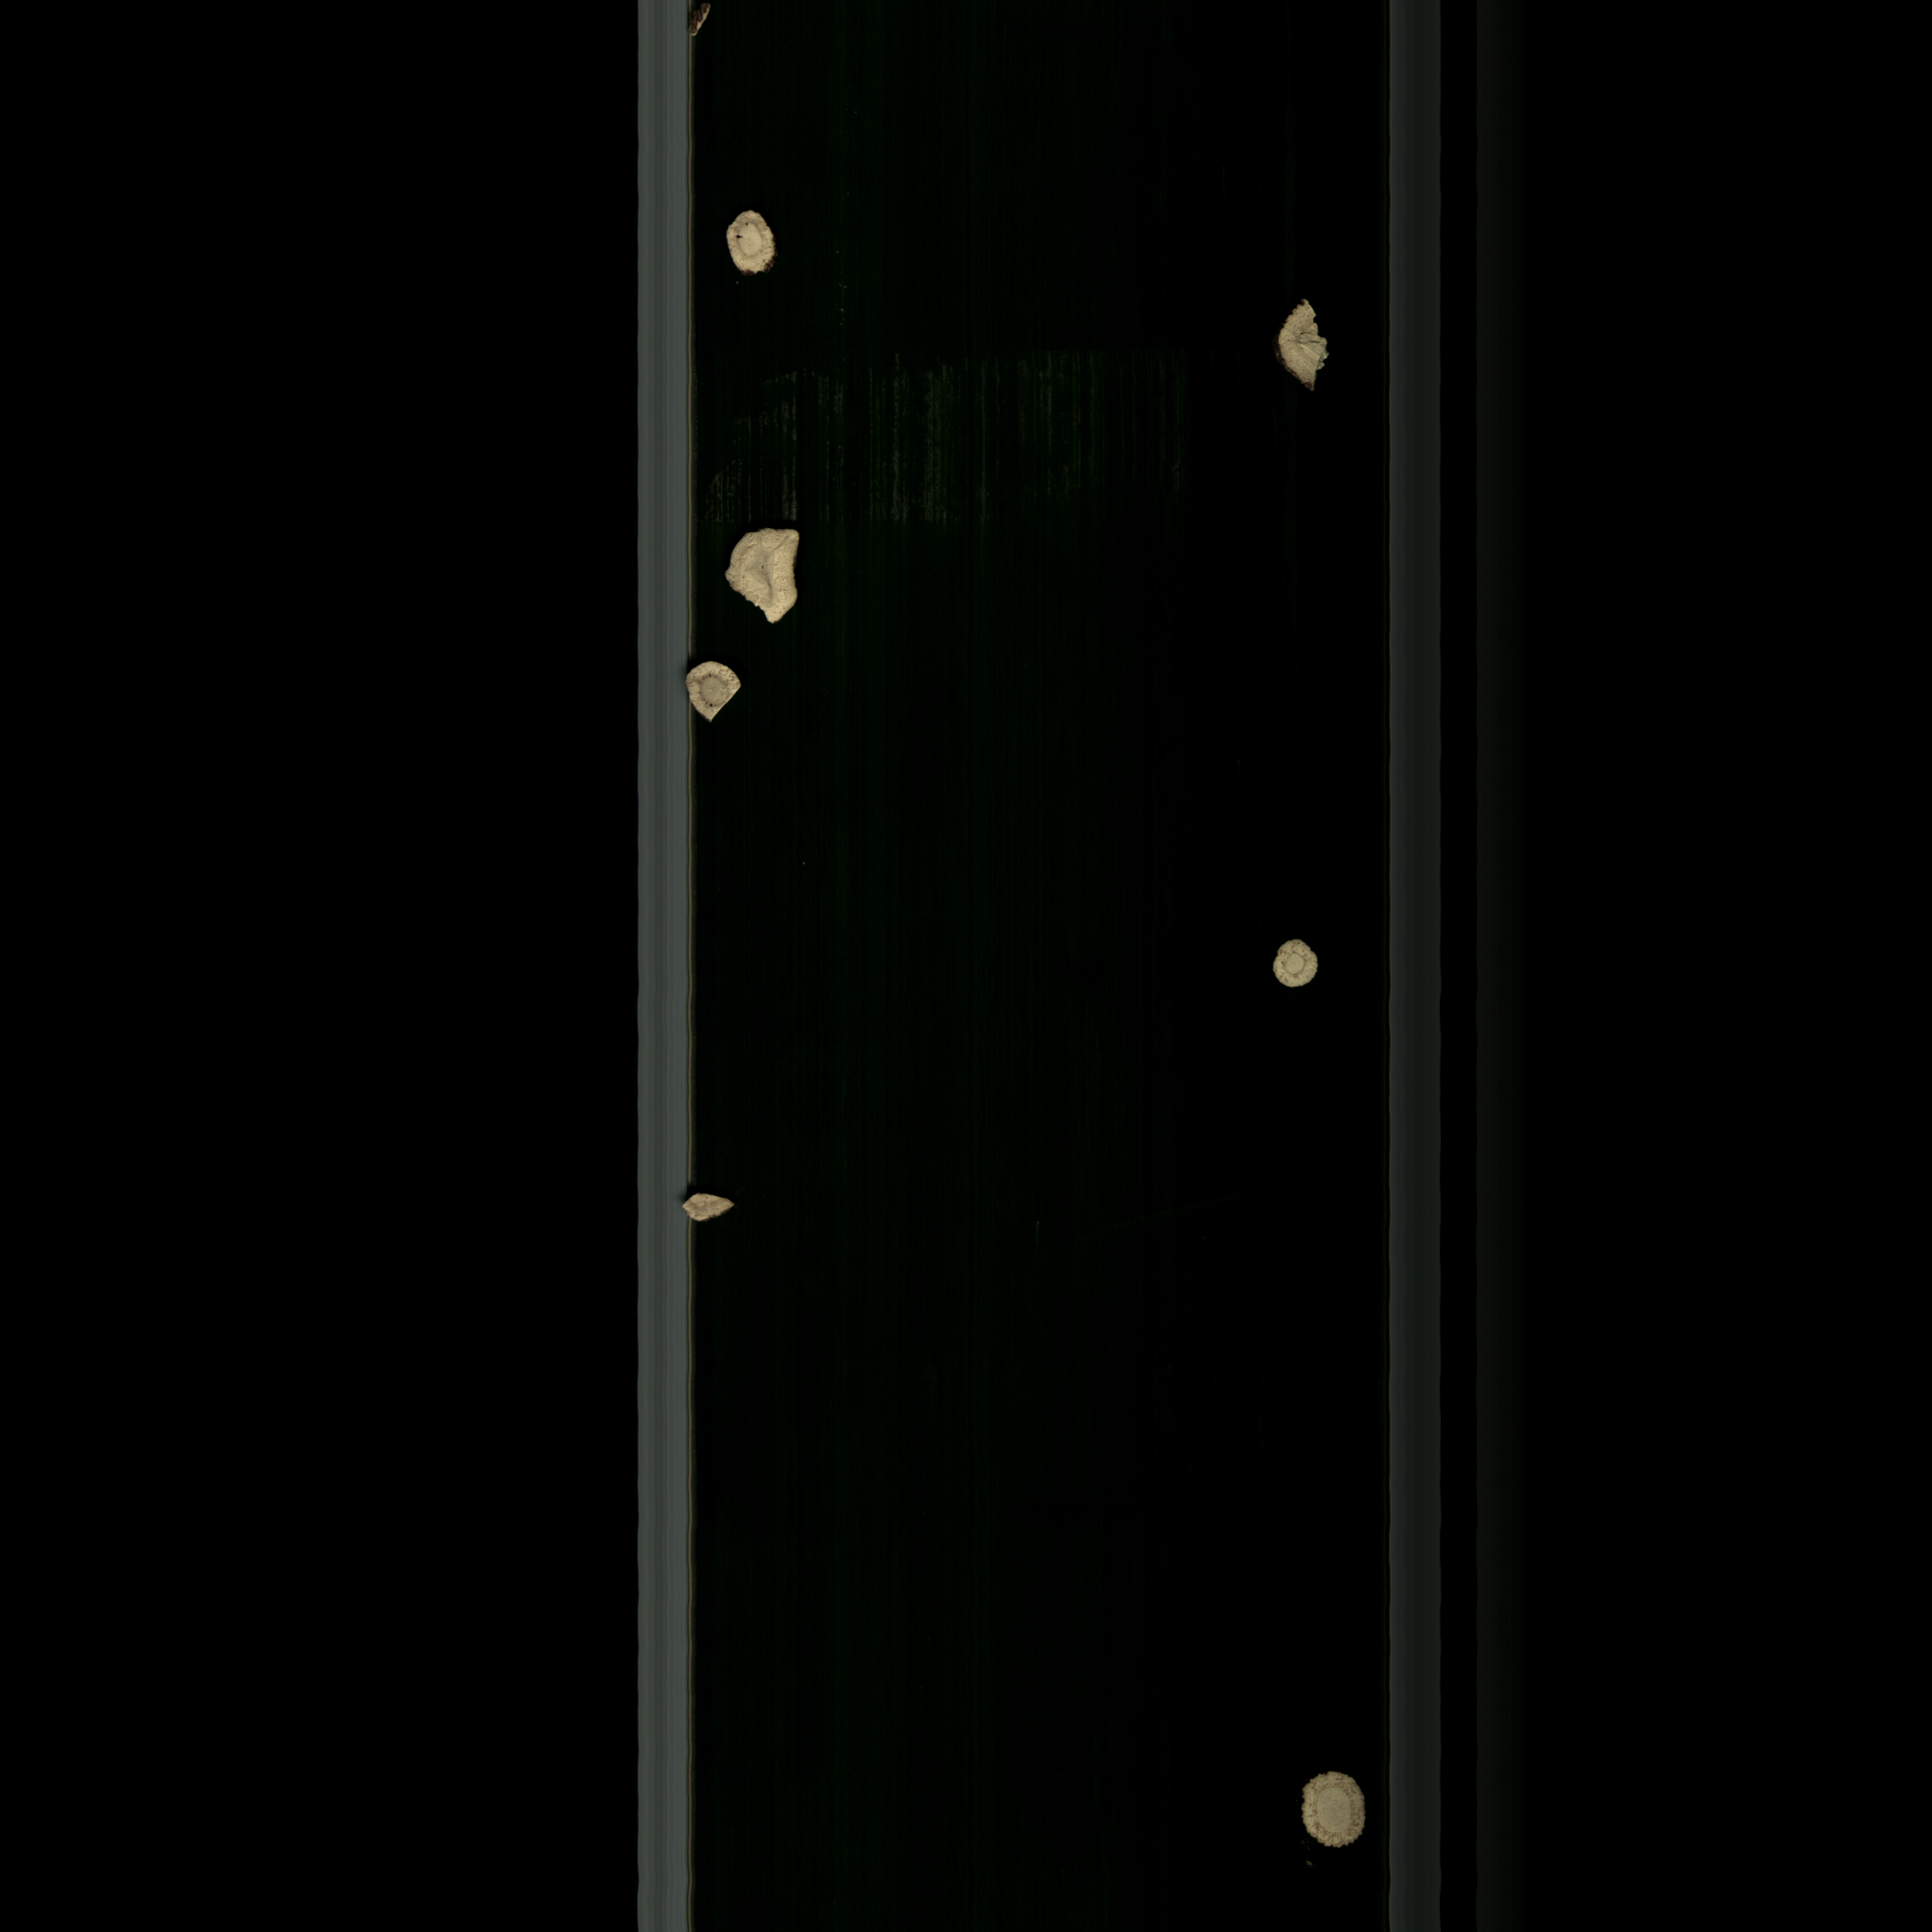debris: (713, 515, 814, 640), (671, 649, 775, 741), (1269, 287, 1338, 403)
dreg: (676, 1182, 755, 1235)
hole: (722, 200, 793, 285)
